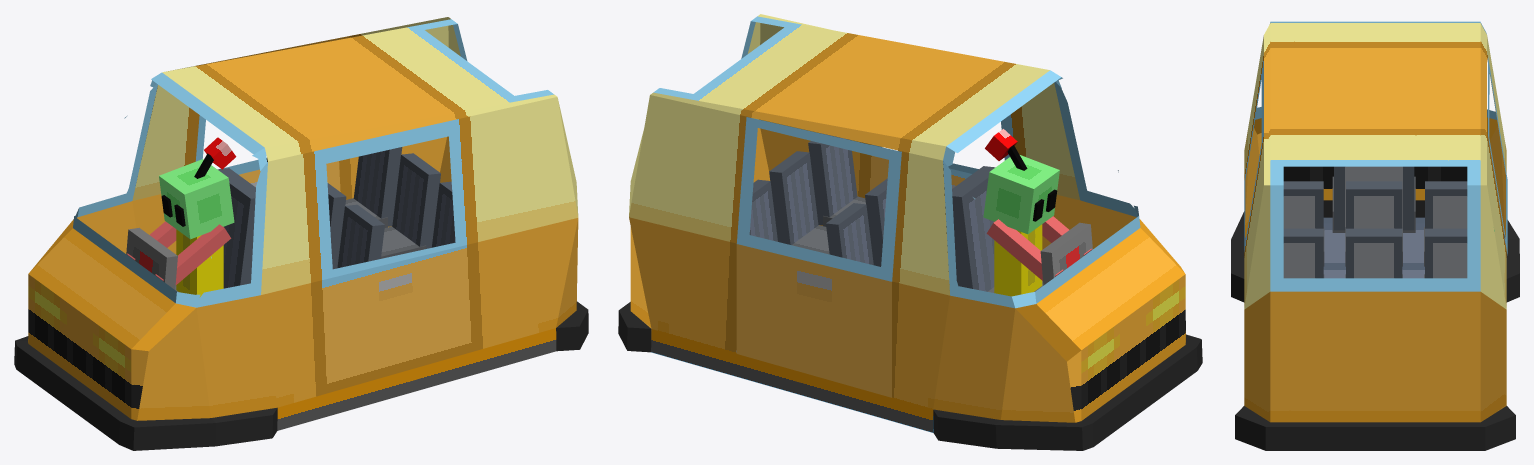
The model's file is public.gltf.
3 renders of one model, left to right at view 1: azimuth 30°, elevation 25°; view 2: azimuth 150°, elevation 25°; view 3: azimuth 270°, elevation 25°, orthographic. The views are drawn at different scales.
Parts seen in each view (by area): view 1: cube (×13), door; view 2: cube (×13), door; view 3: cube (×9), door.
Part boxes in pixels (x1=…): cube (×13): x1=14, y1=17, x2=588, y2=450; door: x1=195, y1=115, x2=340, y2=191; cube (×13): x1=618, y1=14, x2=1202, y2=450; door: x1=736, y1=117, x2=901, y2=397; cube (×9): x1=1231, y1=21, x2=1519, y2=450; door: x1=1488, y1=57, x2=1507, y2=255.
Size of the model in its own units: 2.62 by 1.47 by 1.38.
Materials: 4 (4 with a texture image).
